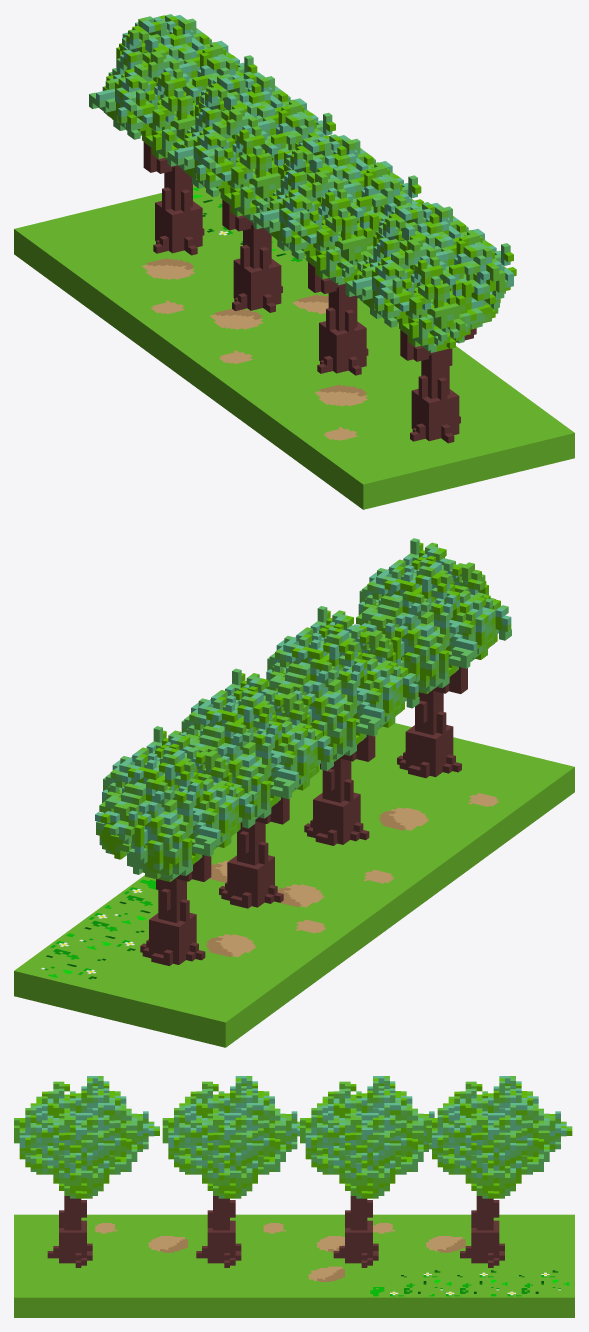
File: map_v1-2.obj
The picture shows the model from 3 angles, top to bottom: view 1: azimuth 30°, elevation 25°; view 2: azimuth 150°, elevation 25°; view 3: azimuth 270°, elevation 25°; orthographic projection. The views are drawn at different scales.
Size of the model in its own units: 7 by 7.6 by 20.
1 material, 1 textured.
